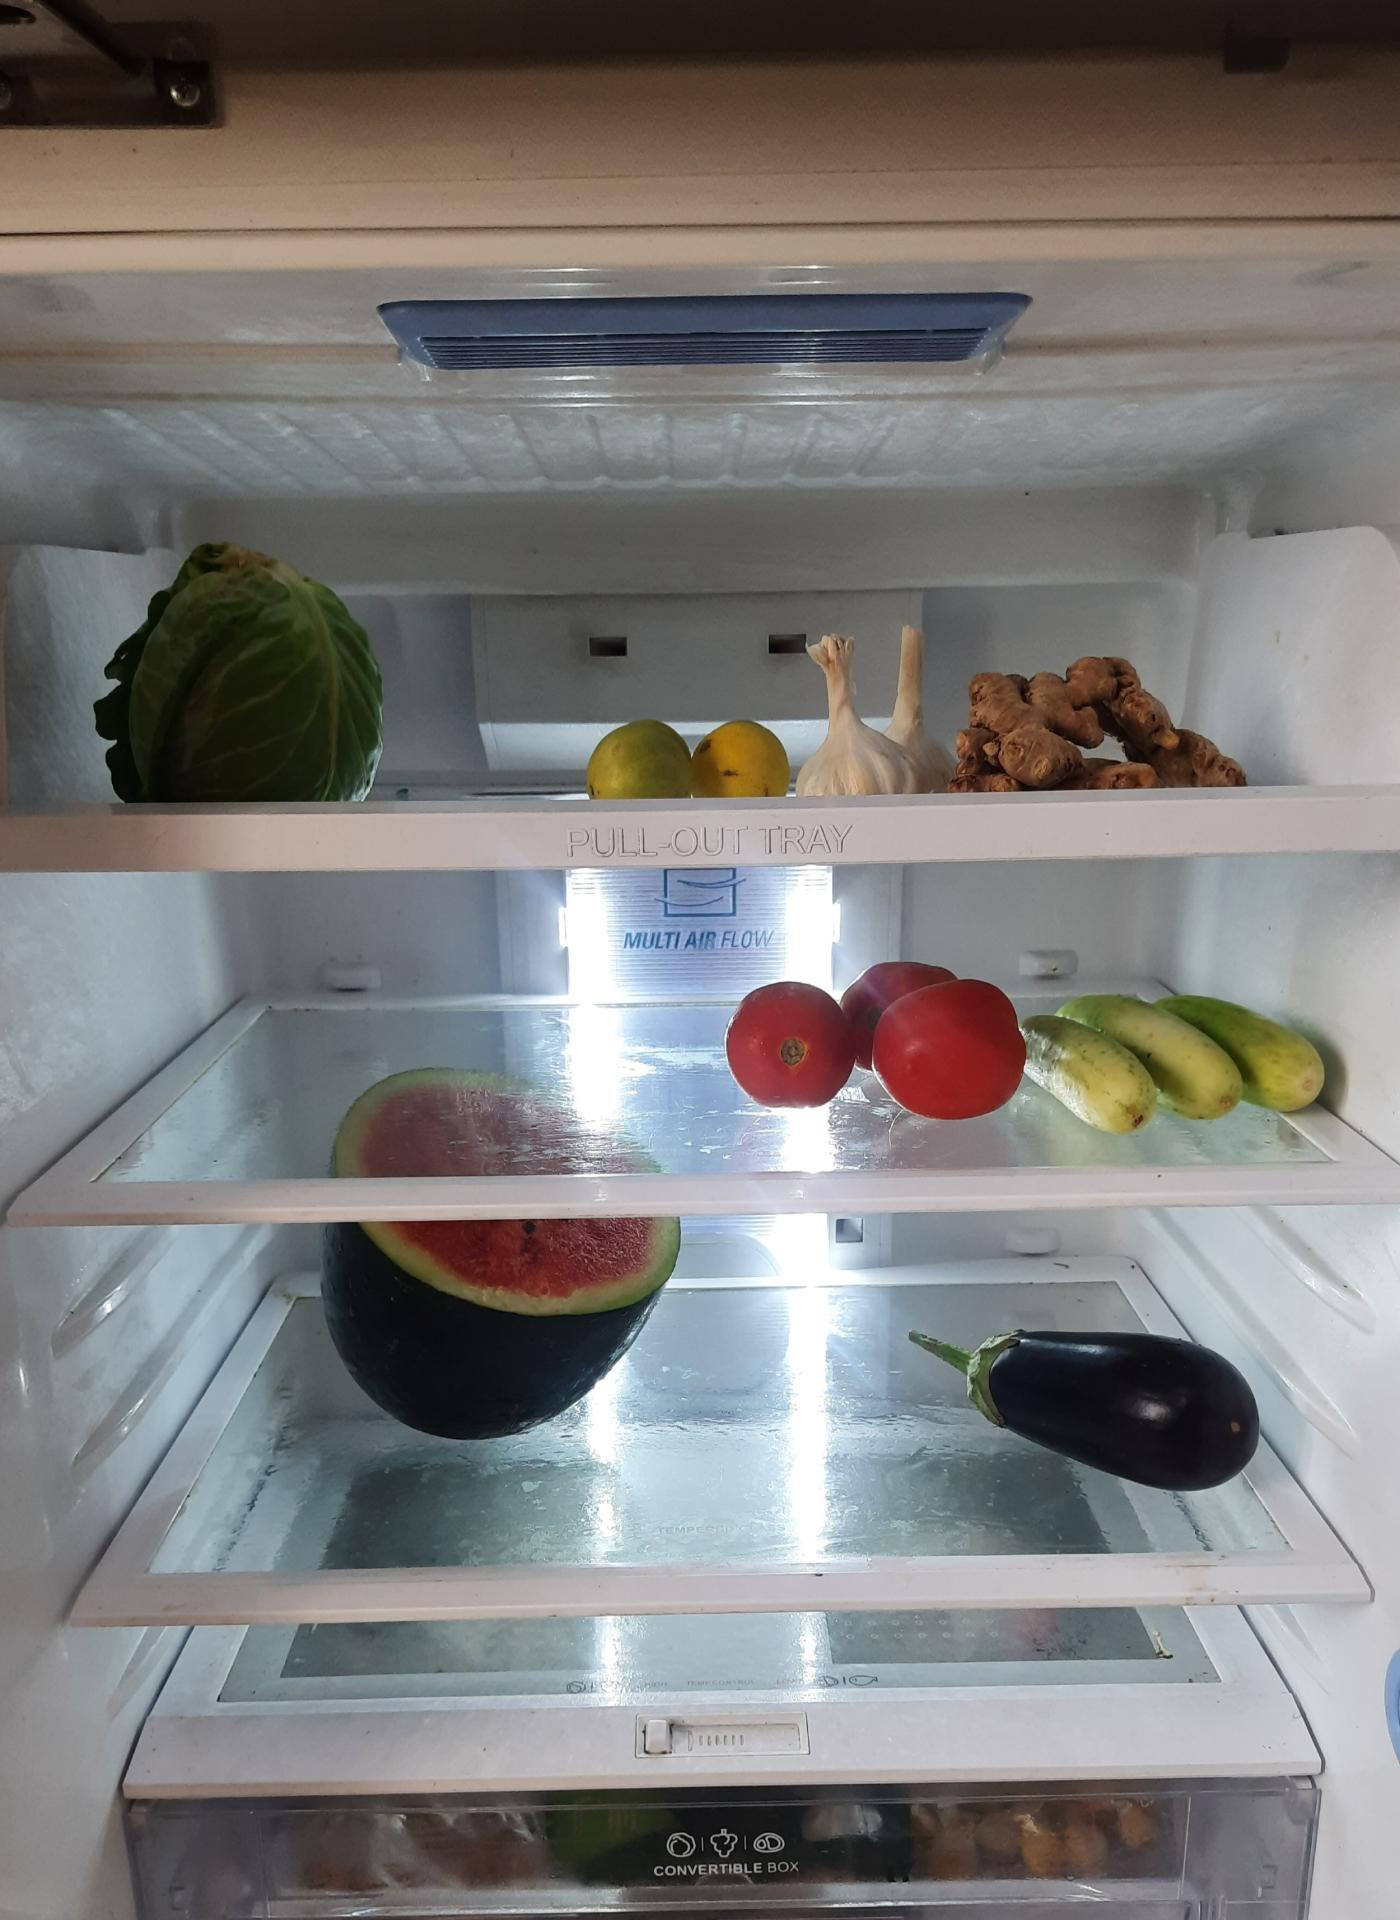brinjal: (914, 1321, 1263, 1488)
cabbage: (91, 535, 388, 800)
cucumber: (1035, 982, 1337, 1136)
garlic: (789, 619, 948, 799)
ginger: (947, 660, 1249, 786)
lemon: (584, 710, 795, 799)
tomato: (725, 954, 1021, 1114)
watermelon: (313, 1067, 686, 1443)
